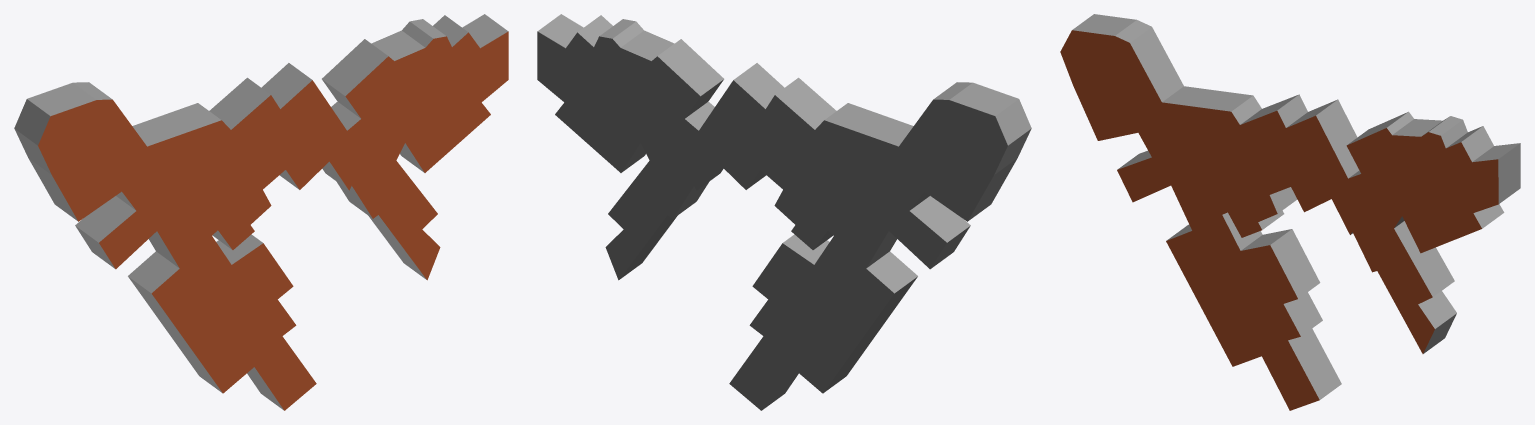
Rendered from construction_2207_assumed_A_Casa_h6m.obj.
3 views of the same model, side by side, from view 1: azimuth 30°, elevation 25°; view 2: azimuth 150°, elevation 25°; view 3: azimuth 330°, elevation 25° (orthographic). The views are drawn at different scales.
Parts seen in each view (by area): view 1: construction_2207_assumed_A_Casa; view 2: construction_2207_assumed_A_Casa; view 3: construction_2207_assumed_A_Casa.
Boxes of the visible parts, left/top/right/bottom form: construction_2207_assumed_A_Casa: left=14, top=14, right=508, bottom=410; construction_2207_assumed_A_Casa: left=537, top=14, right=1031, bottom=410; construction_2207_assumed_A_Casa: left=1060, top=14, right=1520, bottom=410.
Bounding box in the file's own units: 68.65 × 49.72 × 6.
